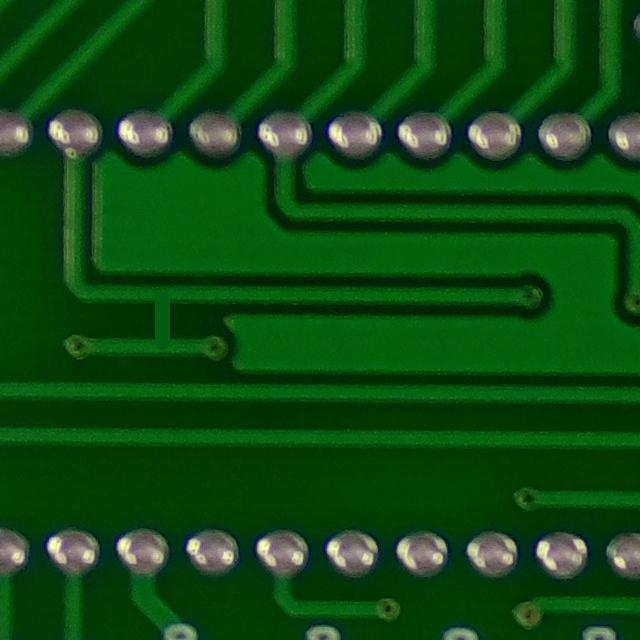short: (132, 277, 194, 360)
